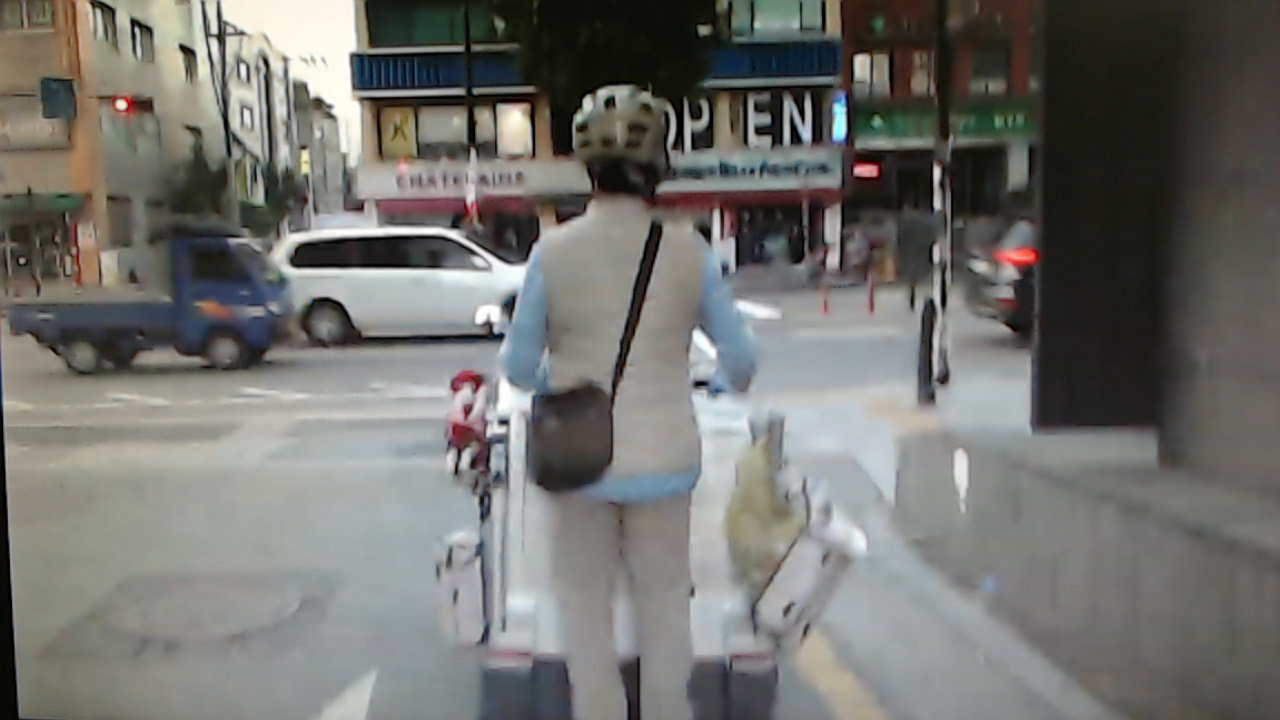Yakurut: (472, 76, 775, 720)
